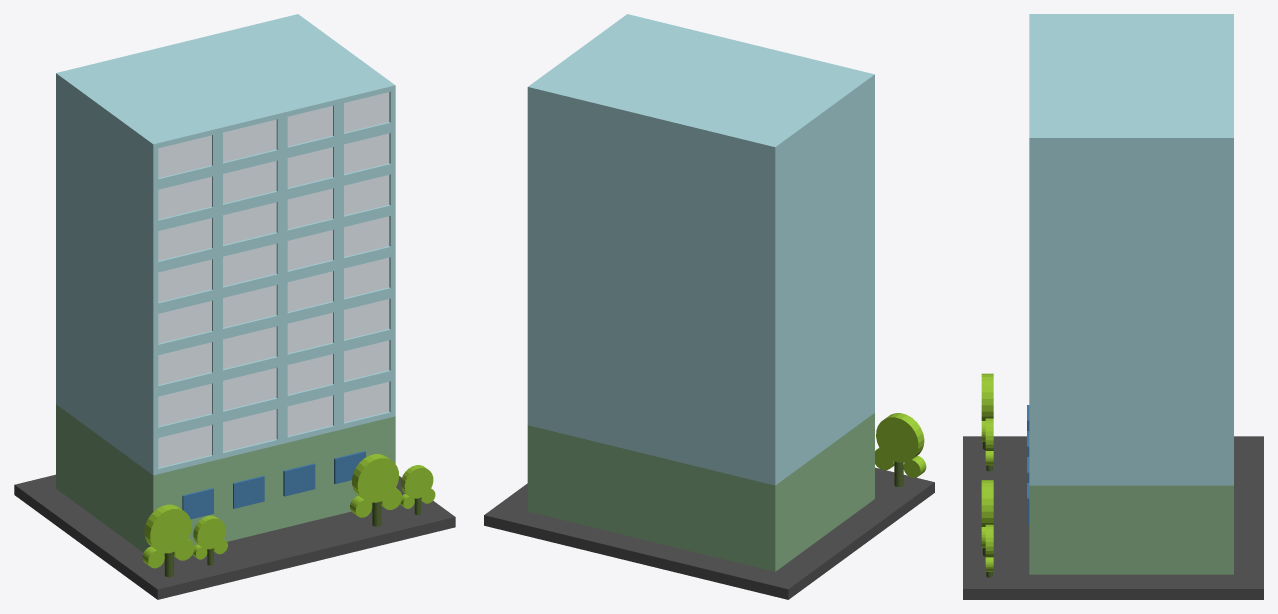
Rendered from company.FBX.
3 views of the same model, side by side, from view 1: azimuth 30°, elevation 25°; view 2: azimuth 150°, elevation 25°; view 3: azimuth 270°, elevation 25° (orthographic). The views are drawn at different scales.
Visible parts, largest first — view 1: Group2, Group1, Group18, Group11, Group21, Group14, Group5, Group4, Group3, Group6; view 2: Group2, Group1, Group18; view 3: Group2, Group1, Group18, Group11, Group21, Group14.
Boxes of the visible parts, x1,y1,x2,y2 form: Group2: [56, 14, 395, 554]; Group1: [14, 474, 455, 599]; Group18: [142, 504, 194, 568]; Group11: [350, 454, 402, 517]; Group21: [192, 515, 227, 559]; Group14: [400, 465, 435, 508]; Group5: [283, 463, 315, 496]; Group4: [233, 475, 264, 508]; Group3: [182, 488, 213, 519]; Group6: [334, 451, 365, 484]; Group2: [527, 14, 874, 571]; Group1: [484, 467, 934, 599]; Group18: [875, 413, 926, 477]; Group2: [1029, 14, 1233, 574]; Group1: [963, 436, 1263, 599]; Group18: [981, 373, 993, 441]; Group11: [981, 480, 993, 547]; Group21: [985, 418, 993, 465]; Group14: [985, 524, 993, 571].
Size of the model in its own units: 11.84 by 16.14 by 9.84.
